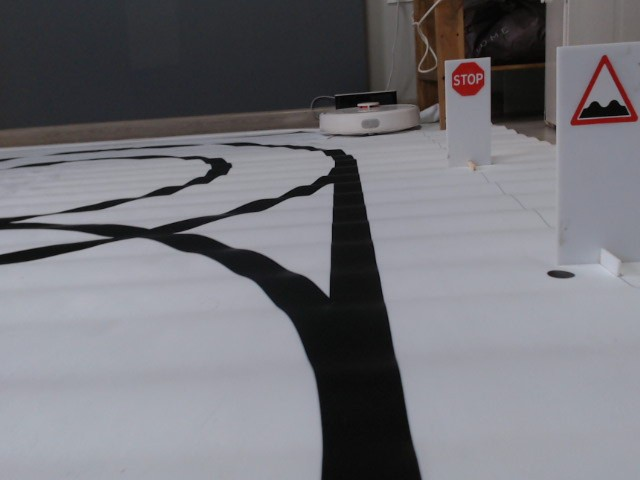Nerov: (569, 54, 640, 126)
